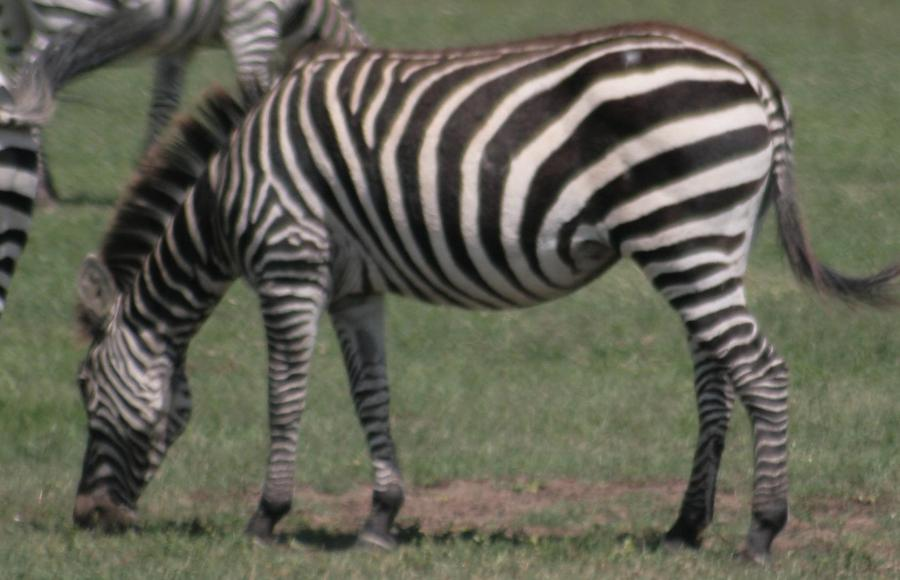zebra_plains: (219, 22, 797, 331)
